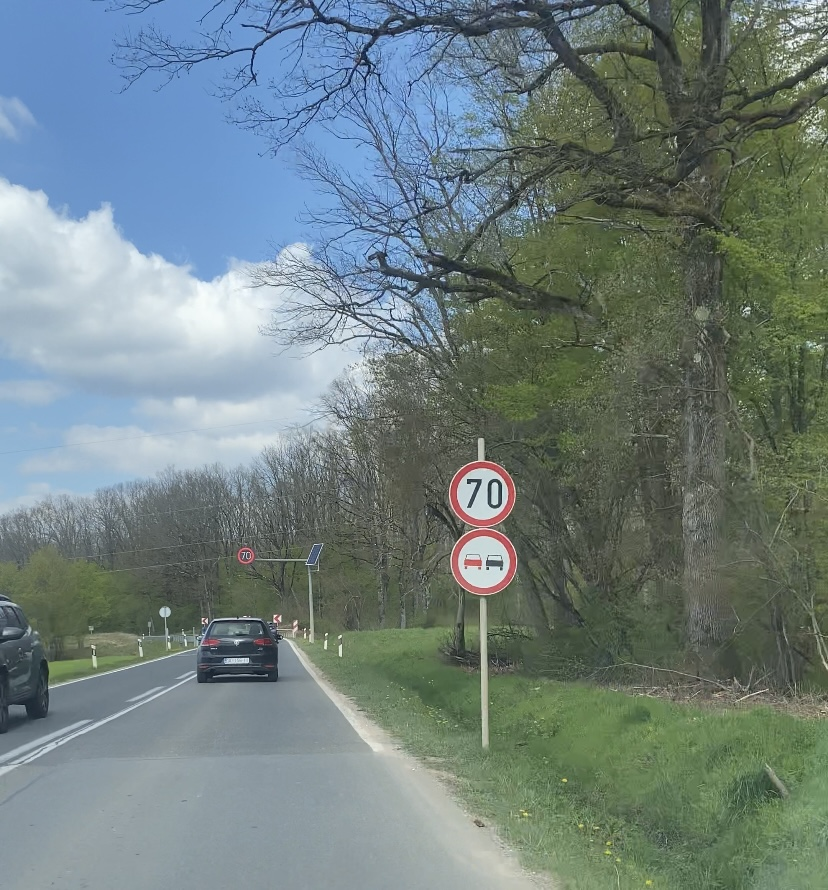Ograničenje brzine 70: (448, 461, 517, 528)
Zabrana pretjecanja: (450, 528, 518, 596)
